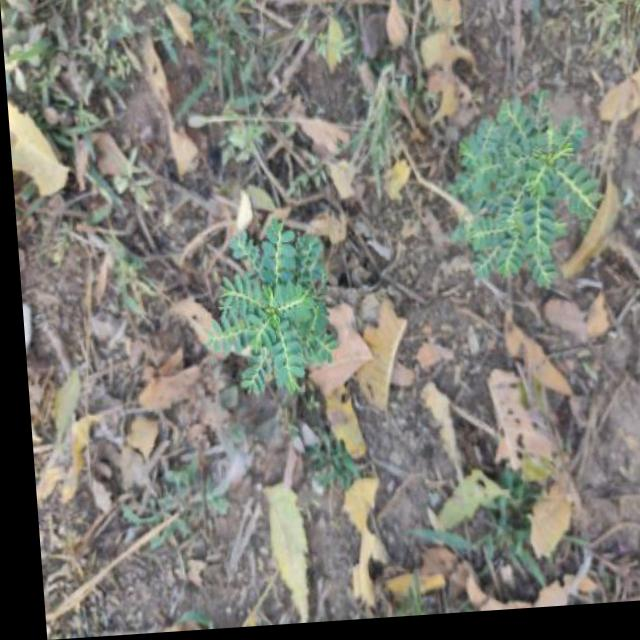weed: (439, 92, 603, 321), (201, 227, 341, 401)
